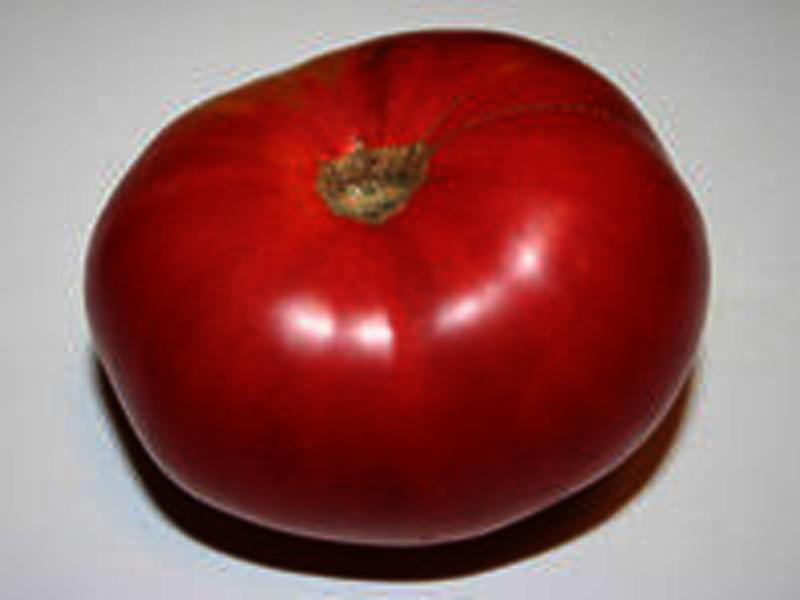Tomato: (81, 24, 711, 532)
